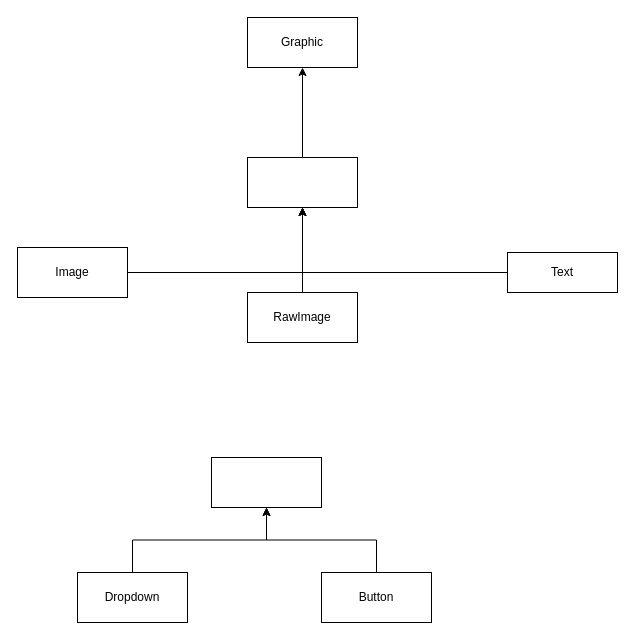
The diagram is 635 pixels wide and 640 high, and some of its shapes have lost their labels. The centre of each missing label's shape, as x and y in pixels:
MaskableGraphic: (x=302, y=182)
Selectable: (x=266, y=482)
